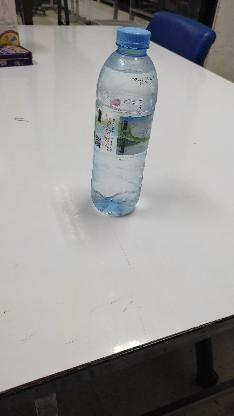Plastic Bottle: (90, 25, 158, 220)
